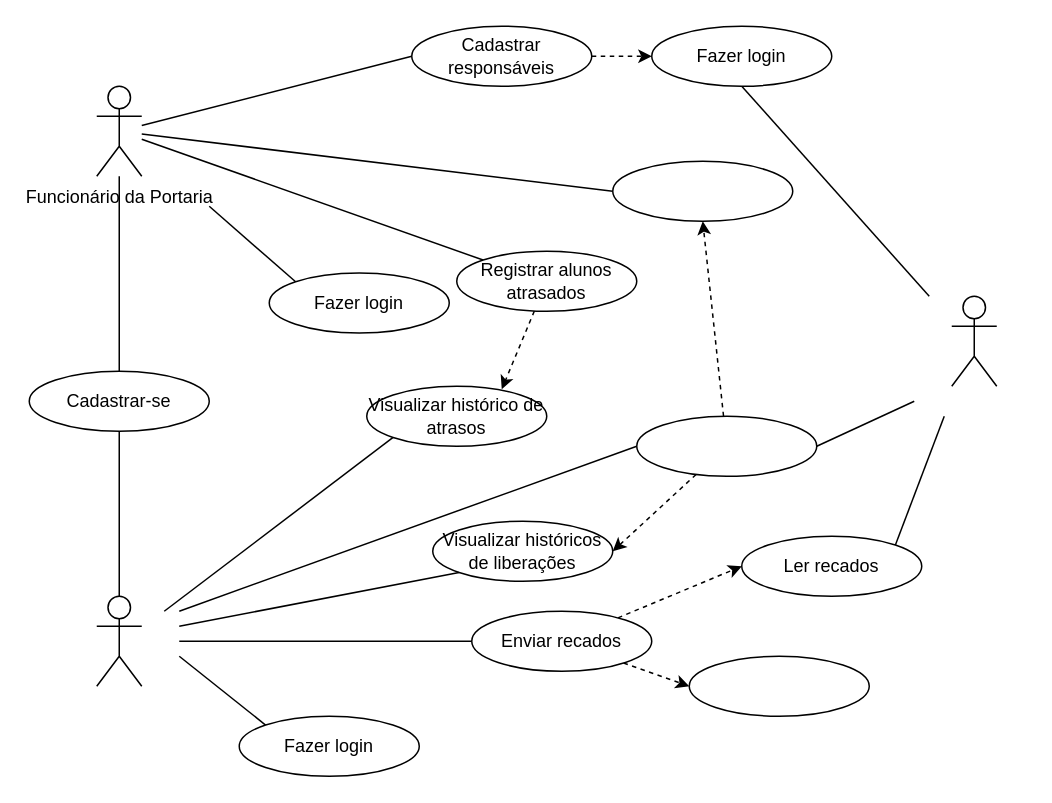
The diagram is 1052 pixels wide and 803 high, and some of its shapes have lost their labels. Each missing label, with the centre of its shape:
"Editar recados" goes at point (778, 685).
"Funcionário da SEPAE" goes at point (118, 640).
"Liberar aluno" goes at point (726, 445).
"Responsável" goes at point (973, 340).
"Validar a saída dos alunos" goes at point (702, 190).
